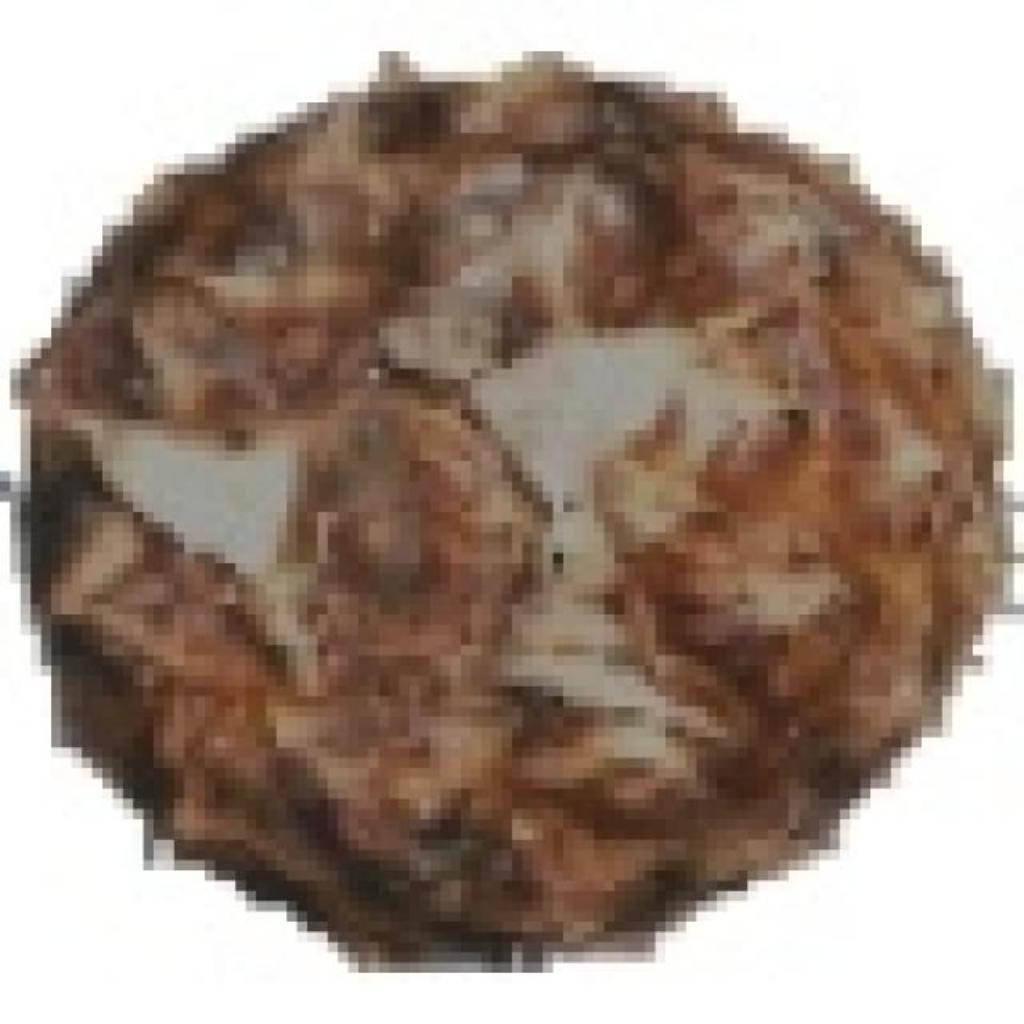pineapple: (41, 51, 1014, 942)
